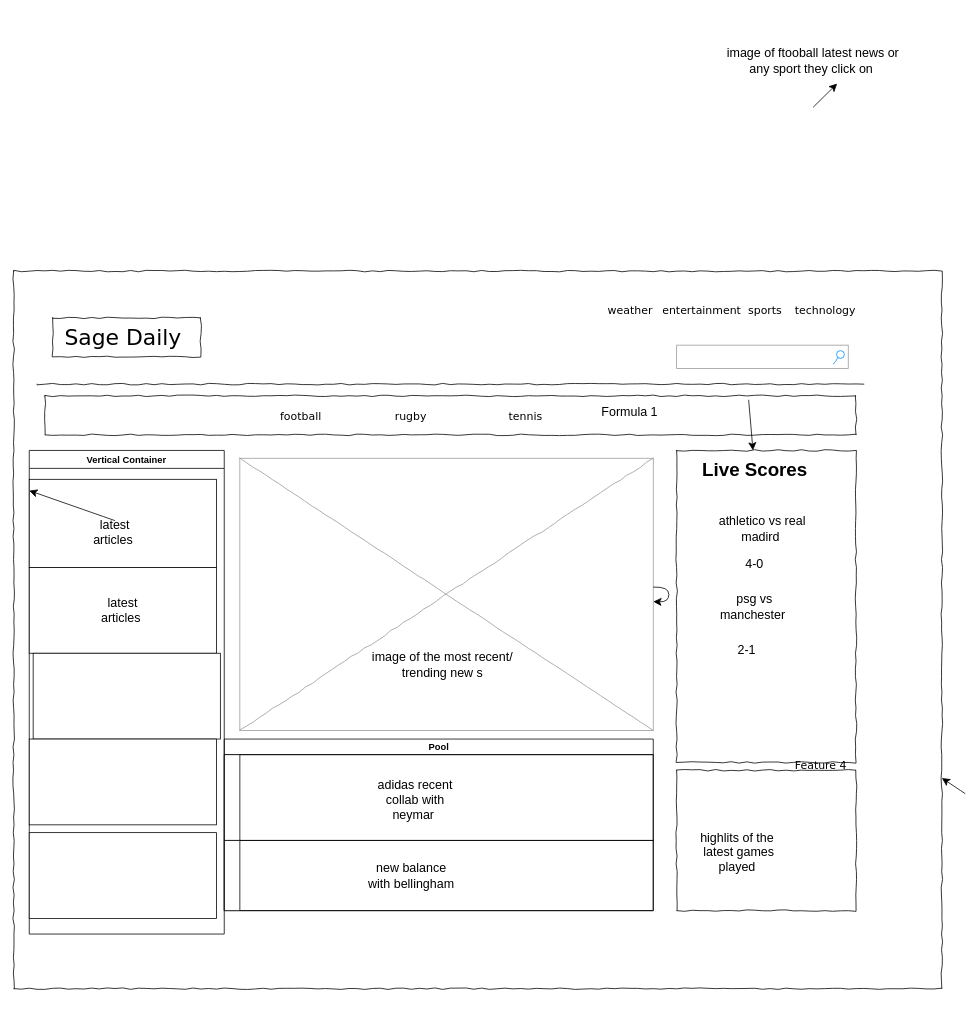
Image size: 979x1033. Some labels were removed from this diagram. Each missing label, with the box of its shape:
Lane 1: (223, 754, 653, 840)
Lane 2: (223, 840, 653, 911)
Search: (676, 344, 848, 369)
